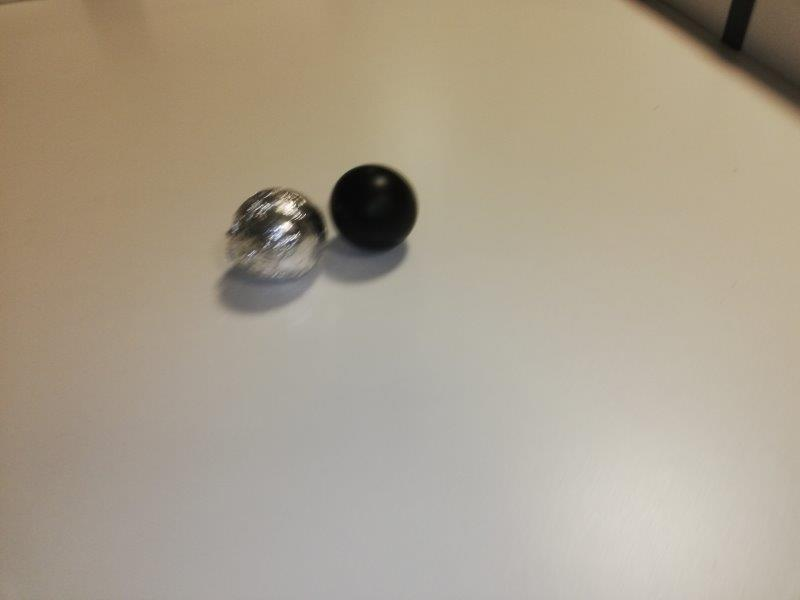bianca: (223, 186, 325, 282)
nera: (328, 161, 421, 252)
